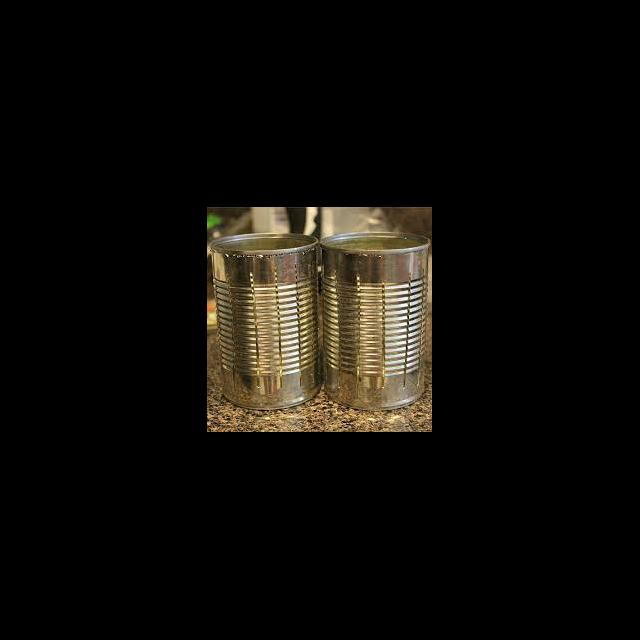metal: (208, 233, 320, 410), (320, 232, 430, 408)
